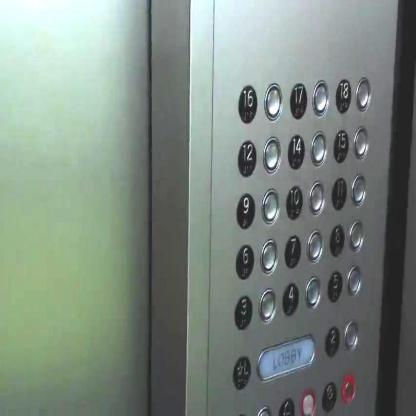10: (285, 184, 304, 221)
11: (330, 176, 347, 211)
12: (236, 138, 257, 178)
14: (286, 133, 306, 170)
15: (332, 129, 349, 164)
16: (237, 83, 258, 124)
17: (288, 80, 308, 120)
18: (335, 77, 351, 113)
2: (323, 324, 341, 362)
3: (233, 293, 254, 331)
4: (281, 280, 301, 318)
5: (326, 267, 343, 306)
6: (235, 243, 254, 279)
7: (282, 232, 300, 270)
8: (328, 222, 346, 257)
9: (235, 191, 256, 228)
empty: (257, 283, 278, 325), (260, 186, 280, 226), (312, 76, 330, 120), (263, 82, 282, 122), (259, 236, 279, 274), (309, 129, 328, 167), (262, 134, 280, 174), (307, 178, 325, 215), (350, 170, 367, 209), (353, 122, 369, 163), (304, 272, 321, 310), (348, 216, 364, 255), (306, 226, 322, 264), (355, 74, 371, 112), (344, 318, 359, 353), (347, 264, 362, 296), (299, 389, 317, 415), (341, 373, 356, 404)
sL: (232, 353, 252, 391)
stop: (321, 380, 338, 412)
